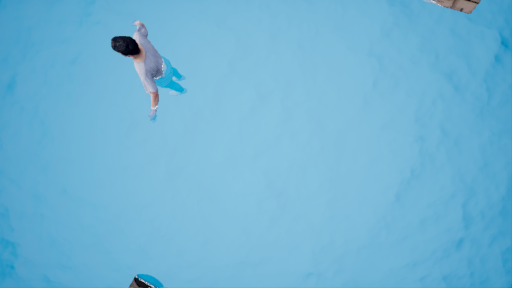person: (105, 15, 190, 123)
